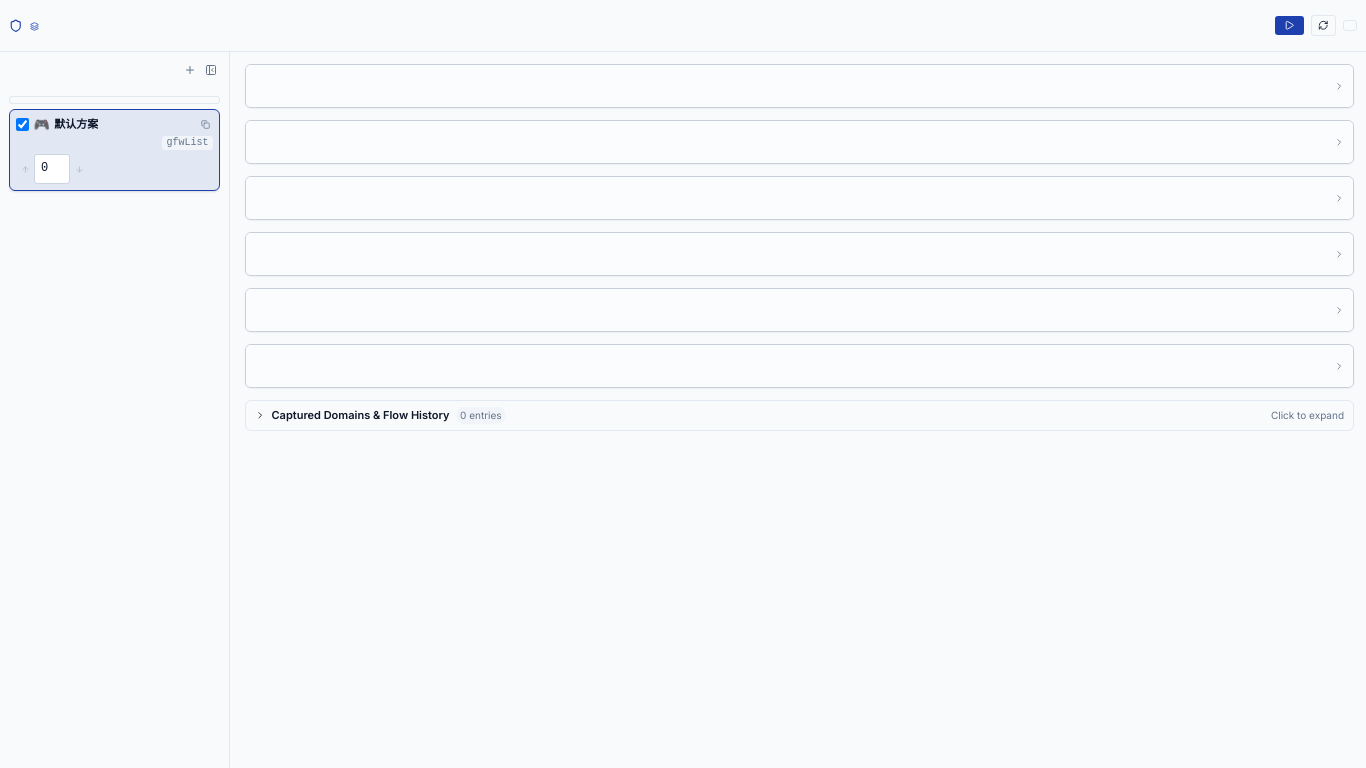
Test case: SocksCapPanel Multi-Profile UI › reveals core-upstream fields (share link + cipher) when selecting Shadowsocks
Click the button with test id "sockscap-section-upstream-toggle": (1339, 198) [246, 177, 1353, 219]
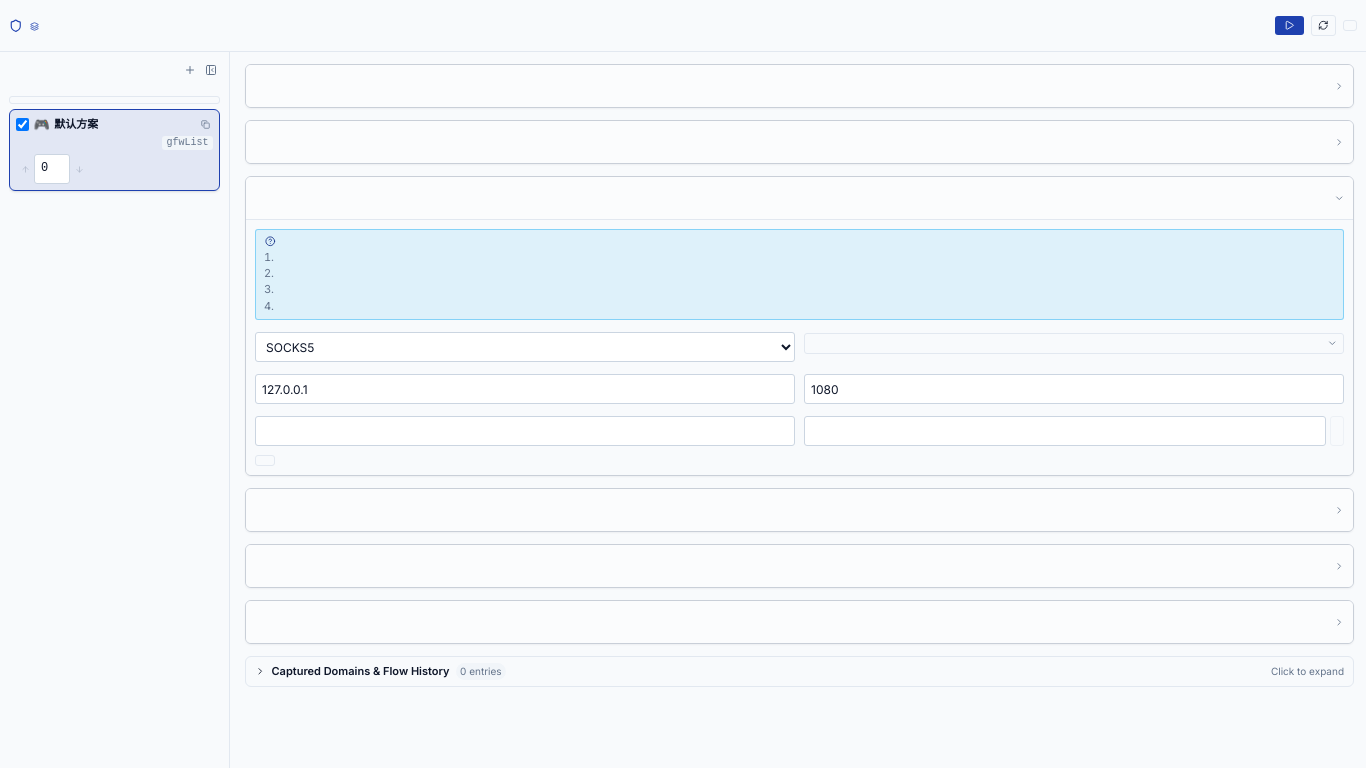
Select "Shadowsocks" in the dropdown with test id "sockscap-upstream-kind": (525, 347) [255, 332, 795, 362]
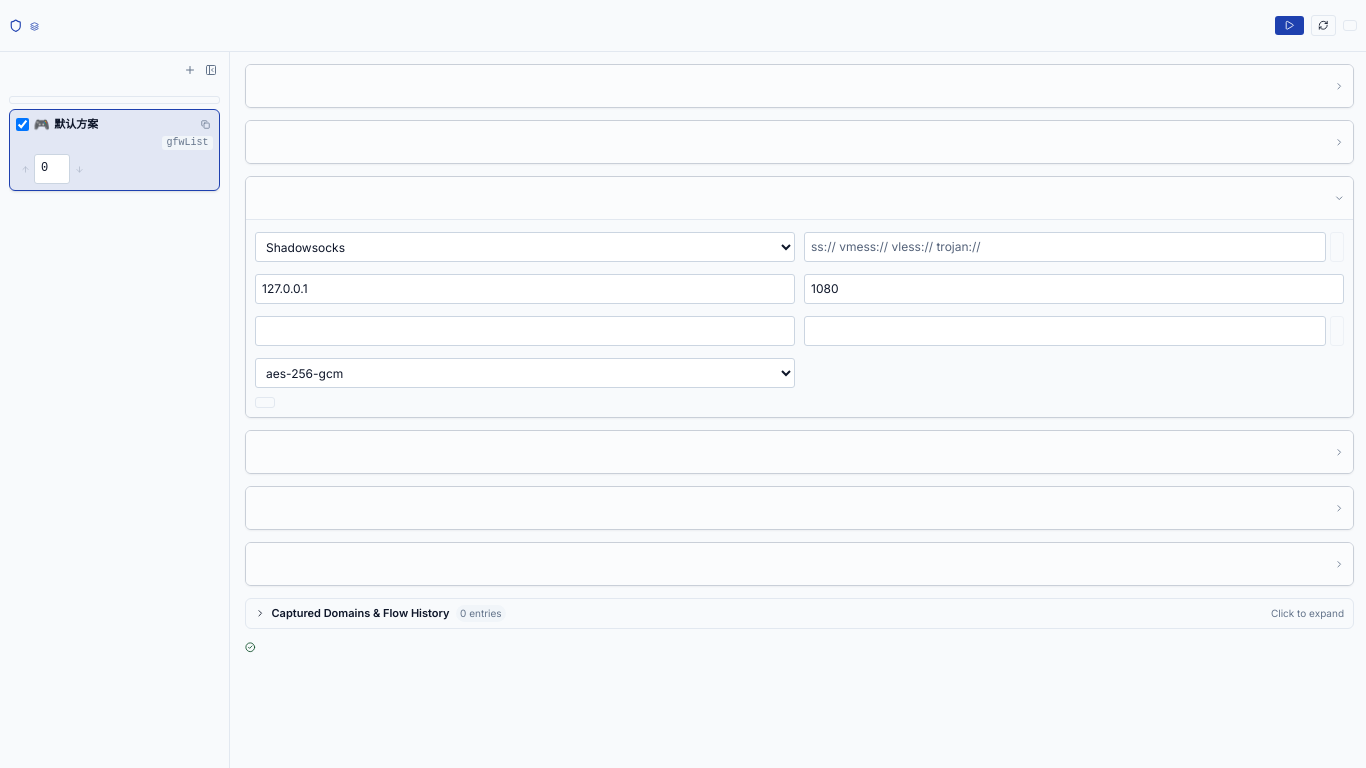
Expected: the field with test id "sockscap-sharelink-input" is shown, [804, 232, 1326, 262]
